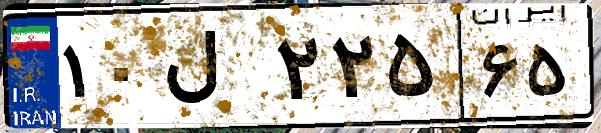0: (110, 28, 158, 98)
1: (57, 26, 110, 100)
2: (270, 28, 330, 110), (330, 28, 385, 110)
5: (385, 28, 445, 110), (525, 38, 570, 115)
6: (475, 38, 525, 113)
ل: (158, 20, 270, 120)
